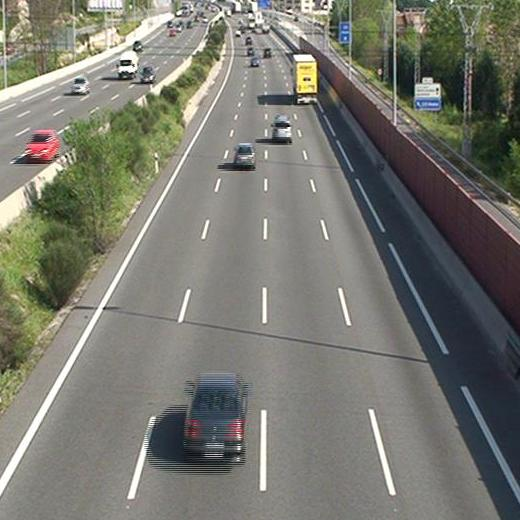car: (184, 377, 245, 457), (234, 145, 255, 166), (273, 117, 291, 140), (250, 58, 259, 66)
truck: (293, 55, 316, 103)
